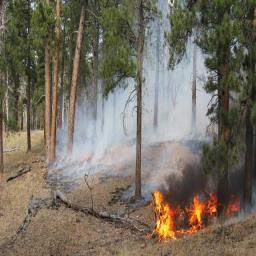Low smoke: (48, 2, 248, 194)
Small fire: (146, 185, 248, 241)
